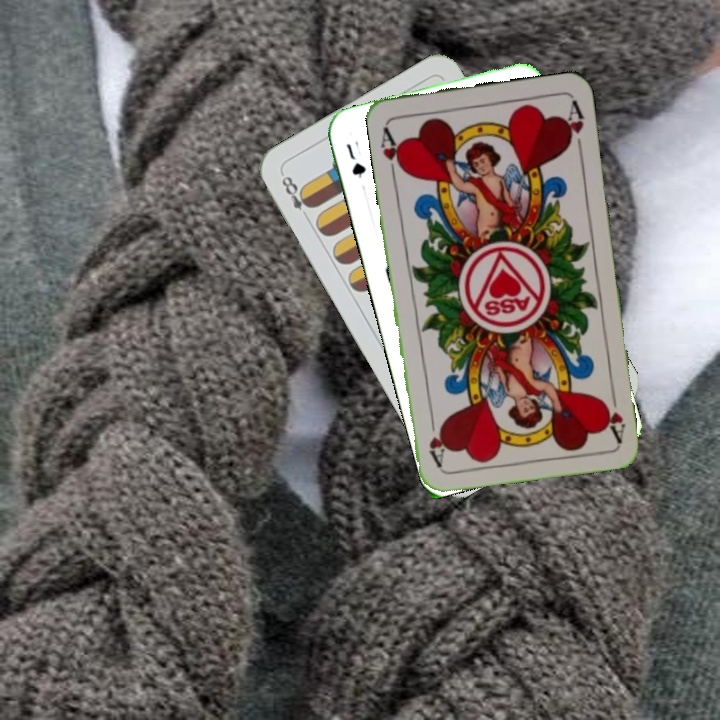E8: (277, 169, 316, 224)
GU: (342, 139, 369, 181)
HA: (598, 384, 629, 443), (376, 122, 407, 180)
